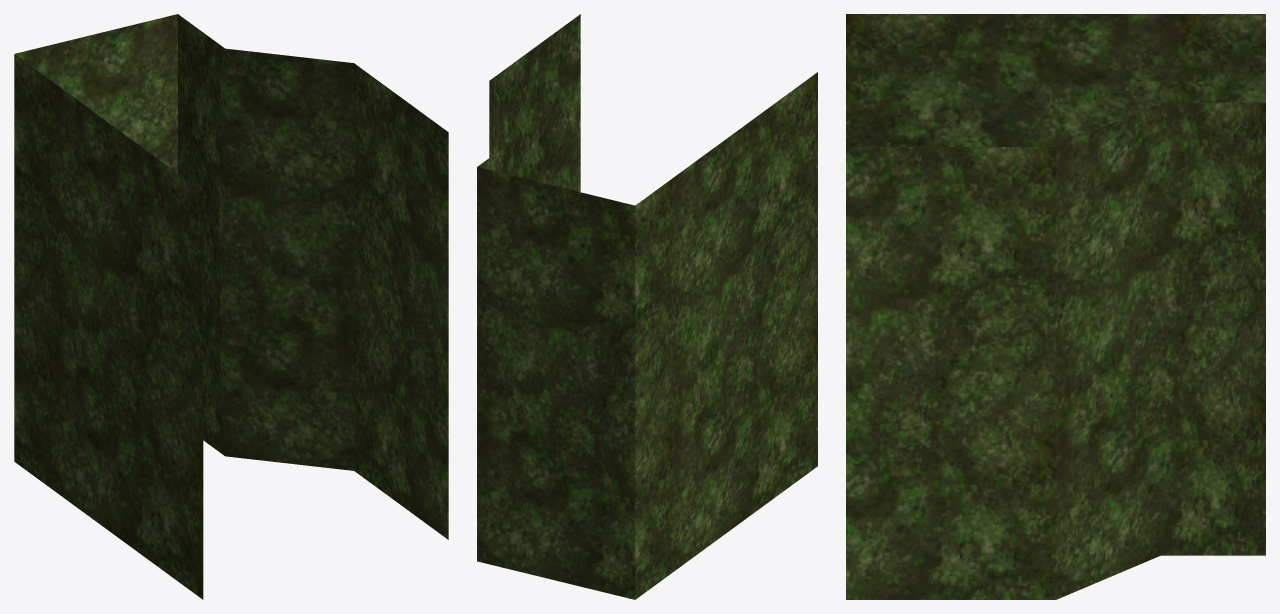
Rendered from OVERHILL_A_01_LINE204.fbx.
3 renders of one model, left to right at view 1: azimuth 30°, elevation 25°; view 2: azimuth 150°, elevation 25°; view 3: azimuth 270°, elevation 25°, orthographic. The views are drawn at different scales.
Visible parts, largest first — view 1: OVERHILL_A_01_LINE204; view 2: OVERHILL_A_01_LINE204; view 3: OVERHILL_A_01_LINE204.
Boxes of the visible parts, x1,y1,x2,y2 form: OVERHILL_A_01_LINE204: [14, 14, 448, 599]; OVERHILL_A_01_LINE204: [477, 14, 817, 599]; OVERHILL_A_01_LINE204: [846, 14, 1265, 599].
Bounding box in the file's own units: 30000 × 47638 × 40000.
Materials: 1 (1 with a texture image).
